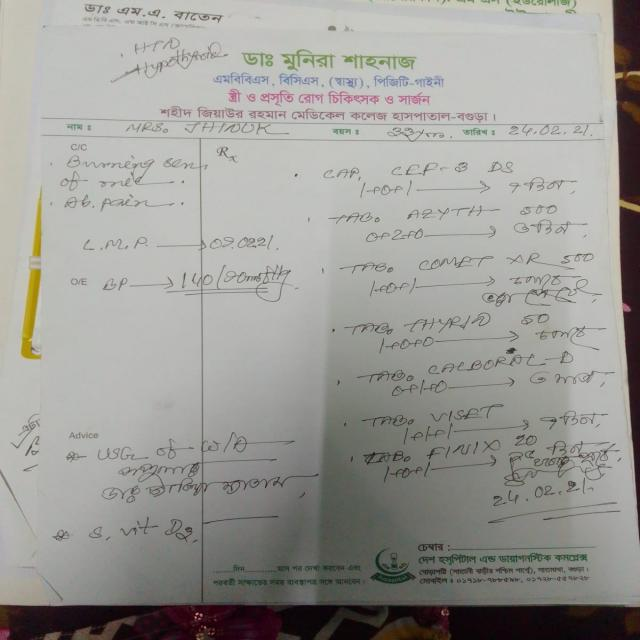Azyth: (403, 203, 494, 225)
Calboral D: (422, 350, 587, 380)
Cef-3 DS: (383, 153, 522, 180)
Comet: (416, 247, 497, 276)
Finix: (423, 441, 508, 464)
Thyrin: (400, 310, 498, 335)
Viset: (423, 404, 510, 427)
